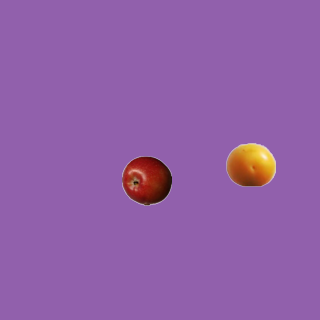Apple Braeburn: (121, 155, 171, 205)
Cherry Wax Yellow: (225, 139, 275, 189)
